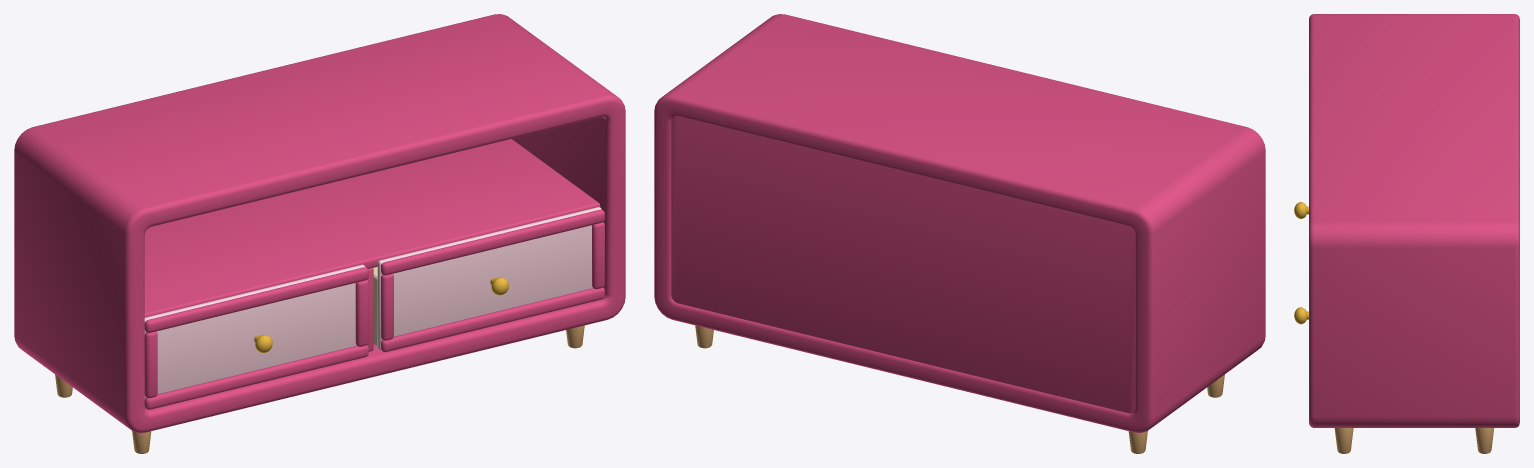
File: rack_gavetas_brancas_rosa.glb
3 views of the same model, side by side, from view 1: azimuth 30°, elevation 25°; view 2: azimuth 150°, elevation 25°; view 3: azimuth 270°, elevation 25° (orthographic). The views are drawn at different scales.
Parts seen in each view (by area): view 1: rack_gavetas_brancas_rosa, gaveta_2, gaveta_1; view 2: rack_gavetas_brancas_rosa; view 3: rack_gavetas_brancas_rosa.
Boxes of the visible parts, x1,y1,x2,y2 form: rack_gavetas_brancas_rosa: (14,14,625,453); gaveta_2: (373,207,604,352); gaveta_1: (144,264,368,409); rack_gavetas_brancas_rosa: (654,14,1265,453); rack_gavetas_brancas_rosa: (1309,14,1519,453).
Size of the model in its own units: 1.05 by 0.52 by 0.4496.
Materials: 1 (1 with a texture image).
